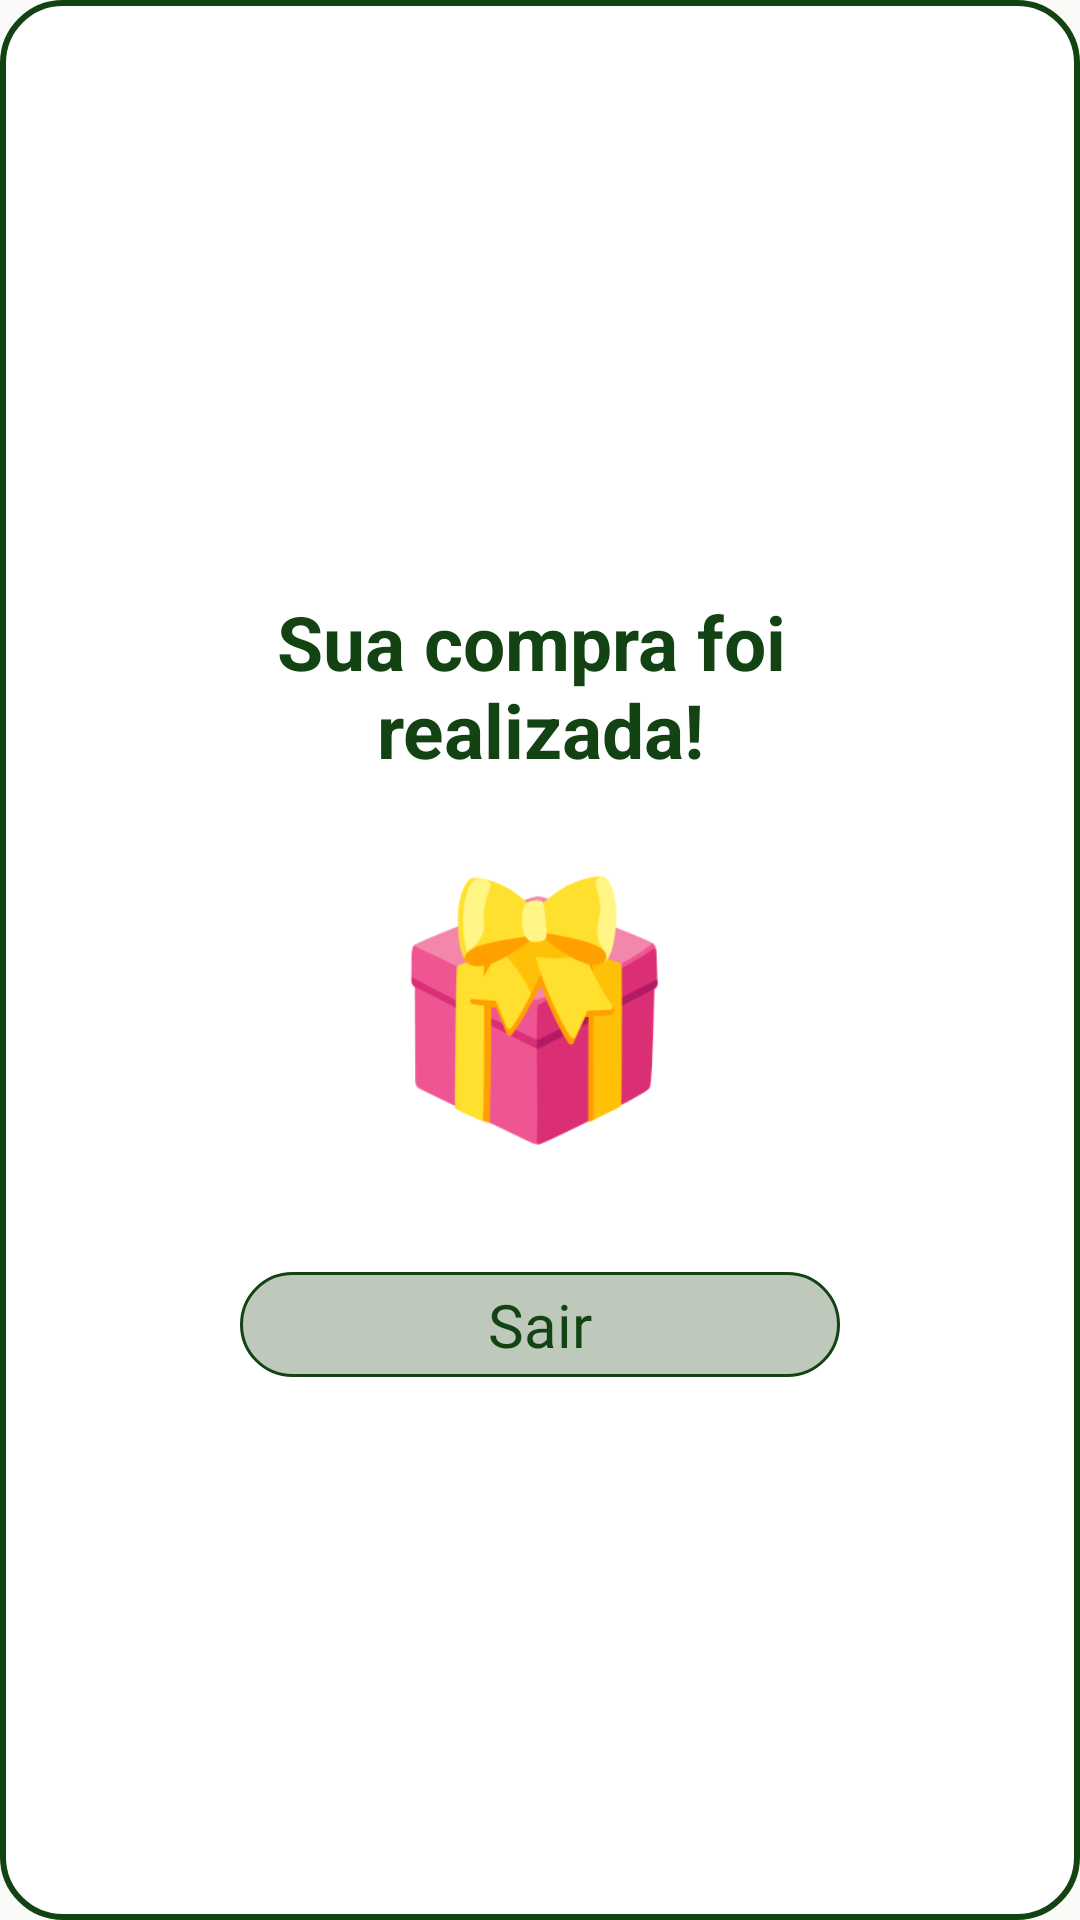

Icon click points for this 1080px x 1920px phone screenshot, format (x=x, y=y):
presente: (x=534, y=1010)
